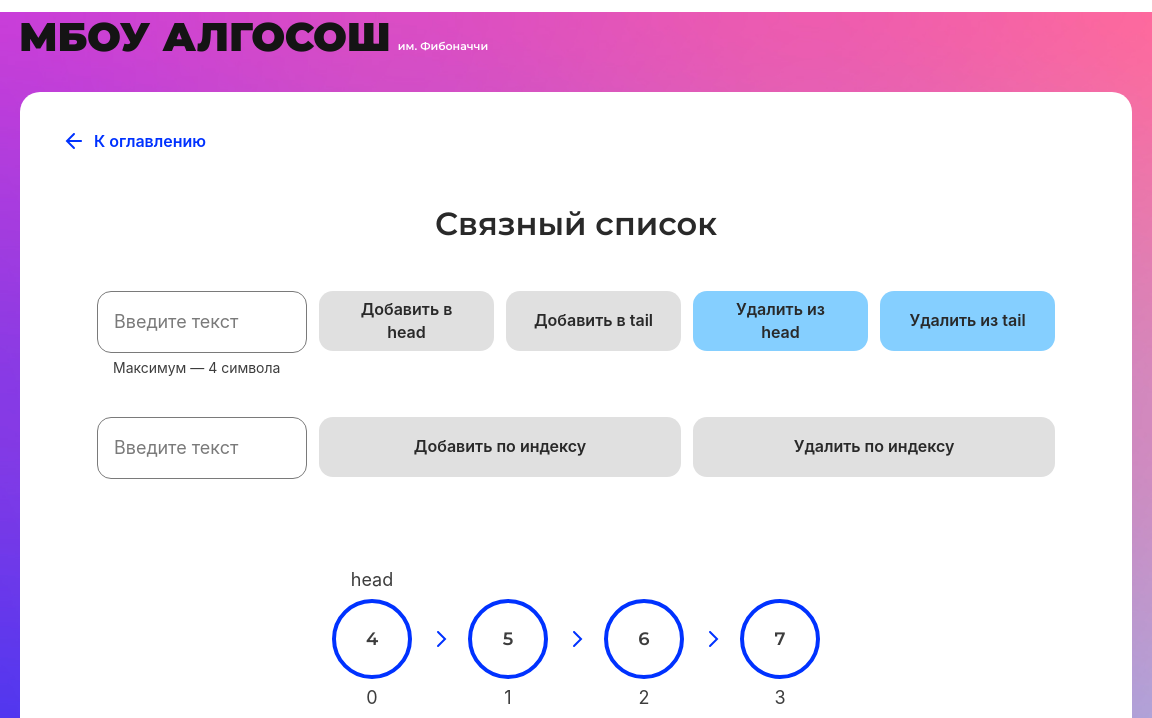
Test: list works right › adding element by index
Type "12" into the field with test id "mainInput" showing "Введите текст".
click(202, 322); type("12")  # box top-left (97, 291), bottom-right (307, 353)
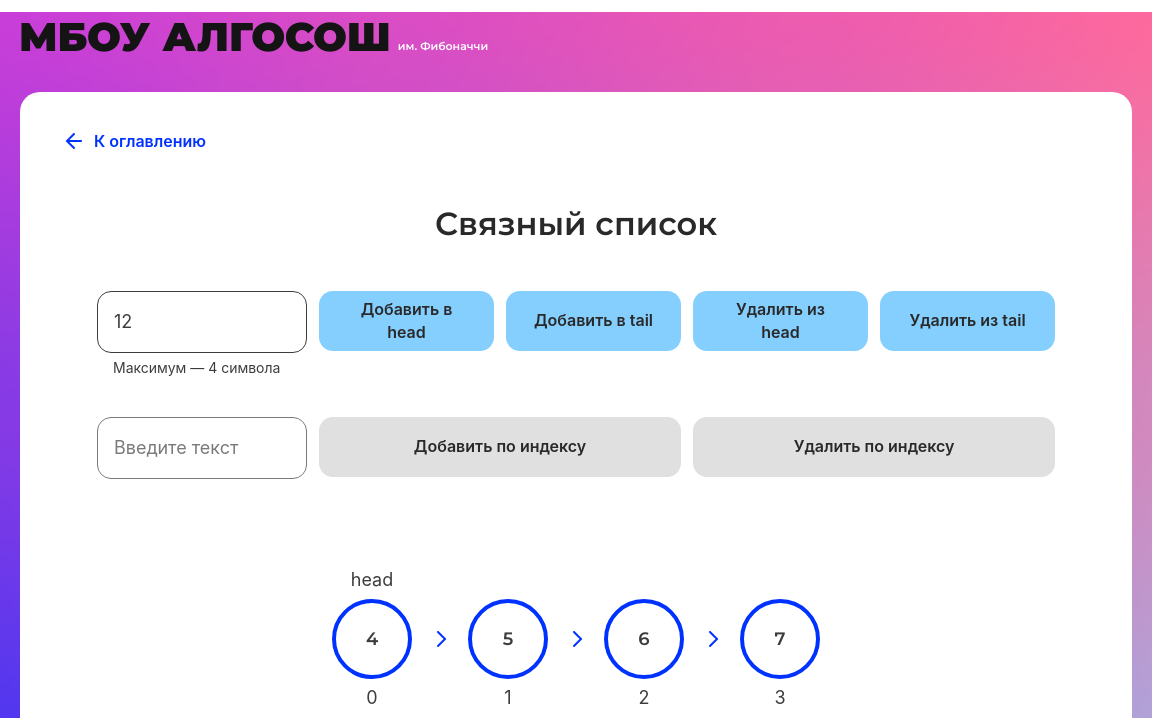
Type "2" into the number field with test id "mainInput" showing "Введите текст".
click(202, 448); type("2")  # box top-left (97, 417), bottom-right (307, 479)
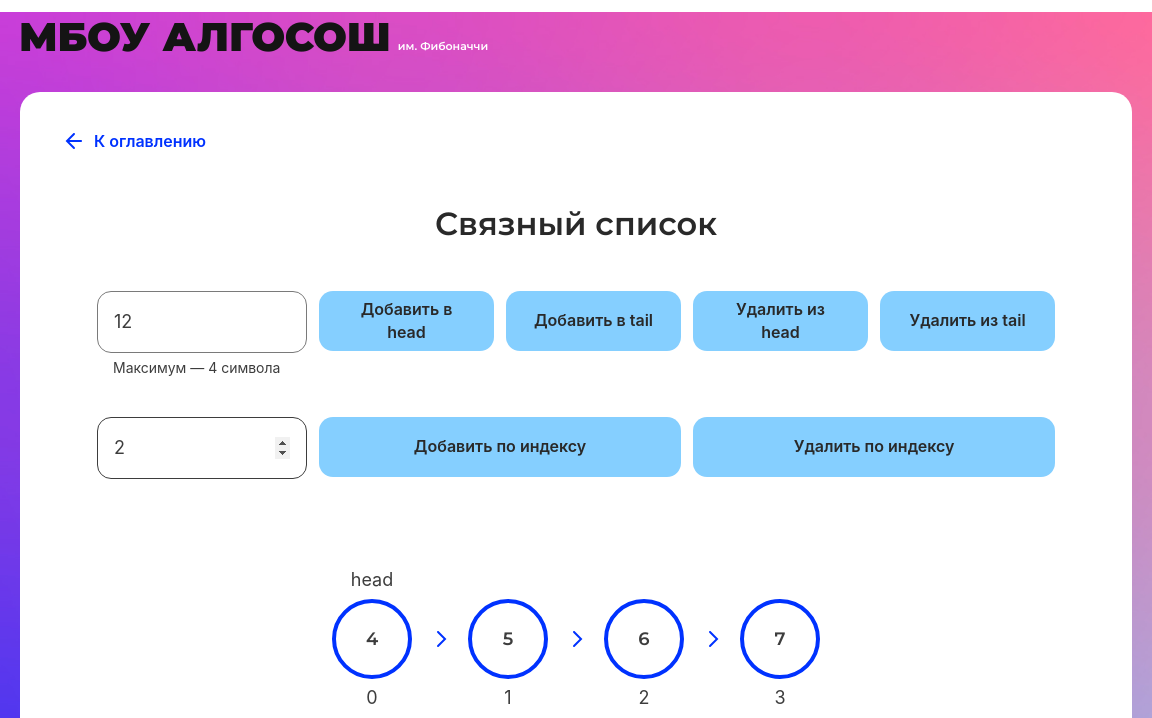
Click the button with test id "actionButton" showing "Добавить по индексу".
click(500, 447)  # box top-left (319, 417), bottom-right (681, 477)
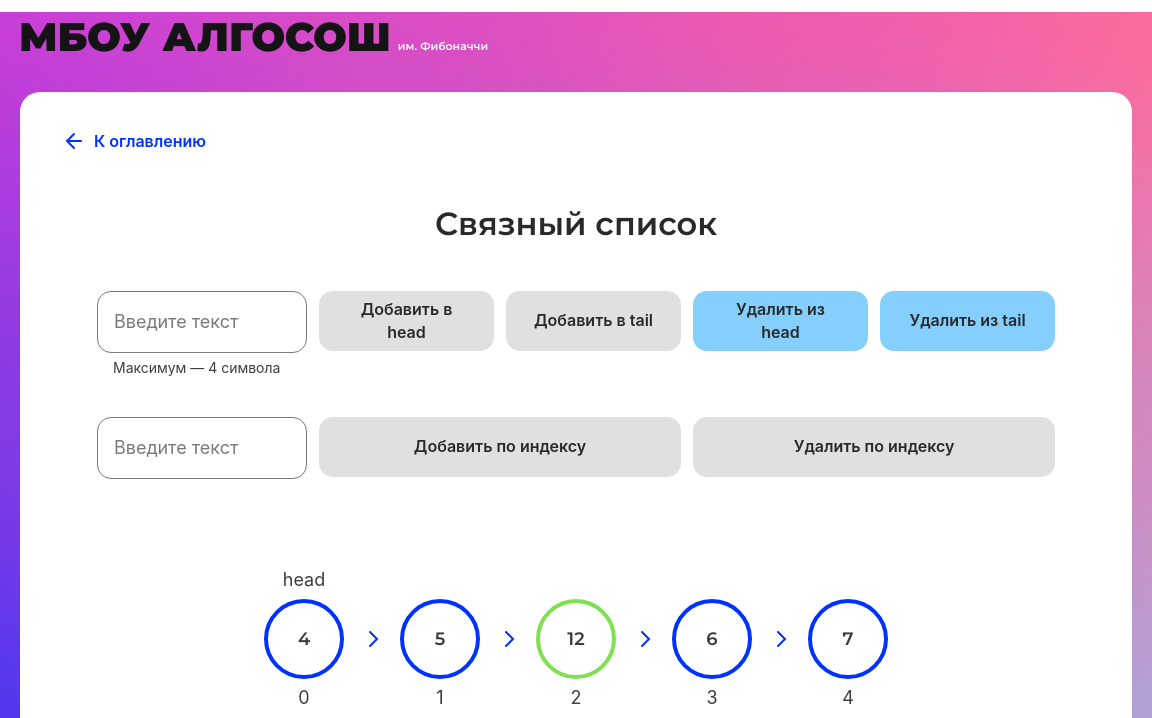
Expected: the text with test id "circleIndex" reads "2", top-left (571, 687), bottom-right (582, 708)
Expected: the number of elements with test id "listCircle" is 5, top-left (264, 599), bottom-right (384, 679); top-left (400, 599), bottom-right (520, 679); top-left (536, 599), bottom-right (656, 679); top-left (672, 599), bottom-right (792, 679); top-left (808, 599), bottom-right (888, 679)
Expected: the text with test id "circleInsides" reads "12", top-left (567, 628), bottom-right (584, 650)
